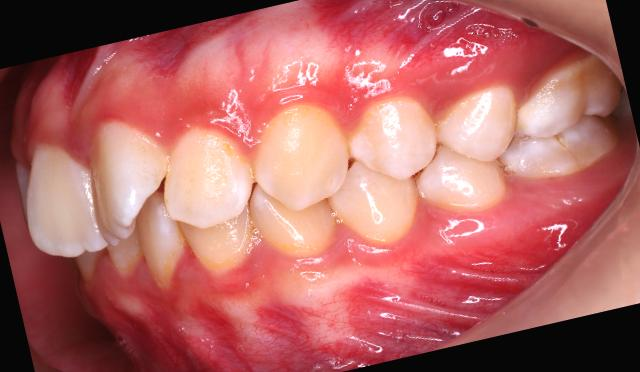canine class II 1/2: (225, 80, 430, 284)
molar class I: (479, 51, 634, 193)
